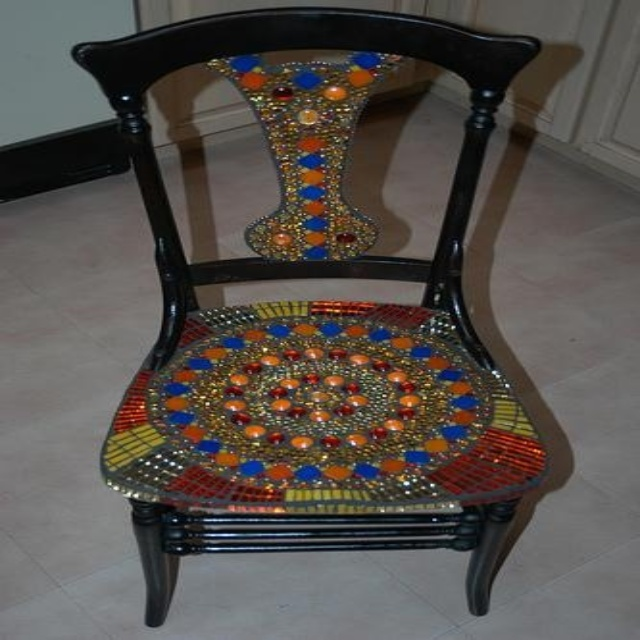obstacle: (73, 8, 546, 625)
